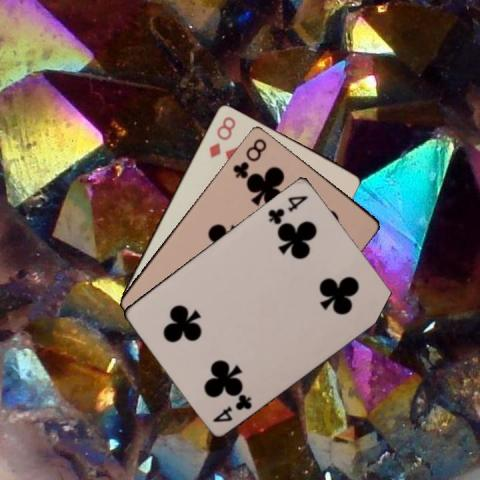4c: (265, 192, 309, 225), (209, 391, 254, 423)
8c: (229, 135, 268, 179)
8d: (205, 112, 237, 158)
